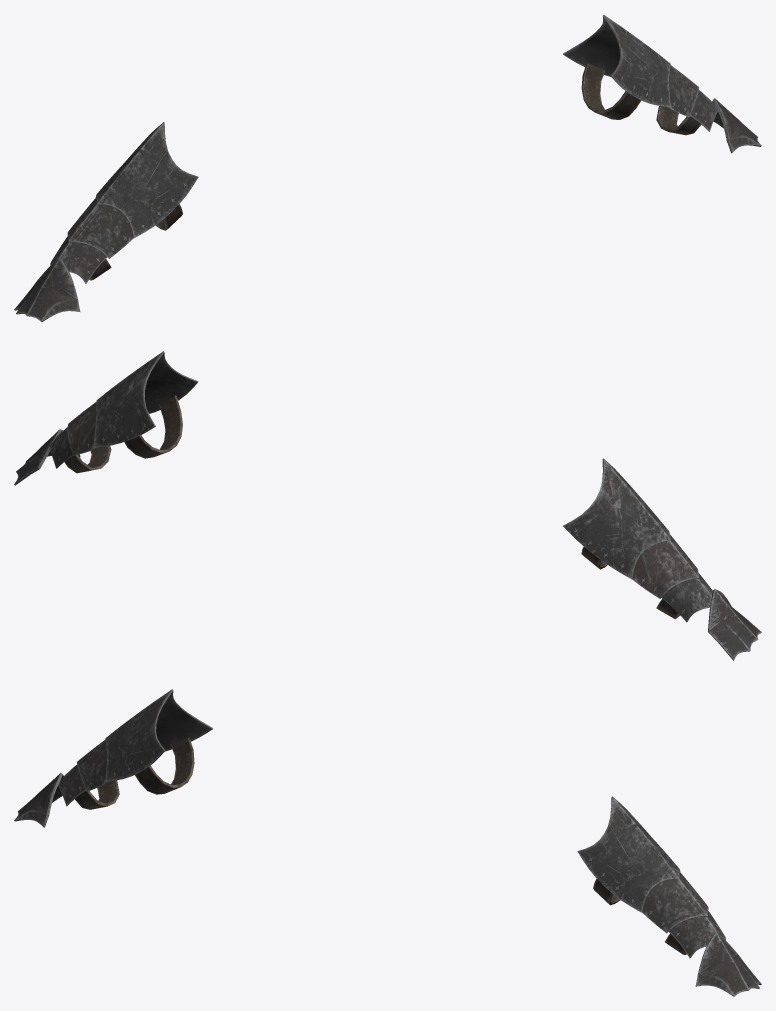
The model's file is sk_uruk_mordor_bracer_heavy_e.fbx.
The picture shows the model from 3 angles, top to bottom: view 1: azimuth 30°, elevation 25°; view 2: azimuth 150°, elevation 25°; view 3: azimuth 330°, elevation 25°; orthographic projection.
Visible parts, largest first — view 1: sk_uruk_mordor_bracer_heavy_e.2, sk_uruk_mordor_bracer_heavy_e.1, sk_uruk_mordor_bracer_heavy_e.0; view 2: sk_uruk_mordor_bracer_heavy_e.2, sk_uruk_mordor_bracer_heavy_e.1, sk_uruk_mordor_bracer_heavy_e.0; view 3: sk_uruk_mordor_bracer_heavy_e.2, sk_uruk_mordor_bracer_heavy_e.1, sk_uruk_mordor_bracer_heavy_e.0.
Boxes of the visible parts, bbox=[...] form: sk_uruk_mordor_bracer_heavy_e.2: bbox=[50, 15, 717, 283]; sk_uruk_mordor_bracer_heavy_e.1: bbox=[14, 98, 761, 322]; sk_uruk_mordor_bracer_heavy_e.0: bbox=[89, 63, 701, 280]; sk_uruk_mordor_bracer_heavy_e.2: bbox=[50, 351, 712, 622]; sk_uruk_mordor_bracer_heavy_e.1: bbox=[14, 429, 761, 660]; sk_uruk_mordor_bracer_heavy_e.0: bbox=[64, 395, 679, 619]; sk_uruk_mordor_bracer_heavy_e.2: bbox=[58, 689, 725, 958]; sk_uruk_mordor_bracer_heavy_e.1: bbox=[14, 772, 761, 996]; sk_uruk_mordor_bracer_heavy_e.0: bbox=[75, 737, 686, 954].
Size of the model in its own units: 1.53 by 0.1719 by 0.3225.
Materials: 3 (3 with a texture image).
